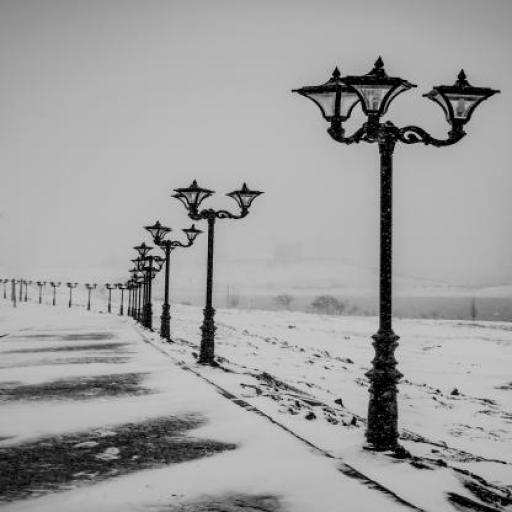street light: (289, 56, 501, 454), (171, 182, 263, 371), (144, 222, 203, 345), (134, 244, 155, 330), (104, 283, 118, 312), (118, 283, 129, 315), (85, 283, 98, 310), (49, 282, 62, 304), (67, 283, 78, 308), (36, 282, 46, 304), (22, 280, 32, 302), (1, 280, 10, 298)
